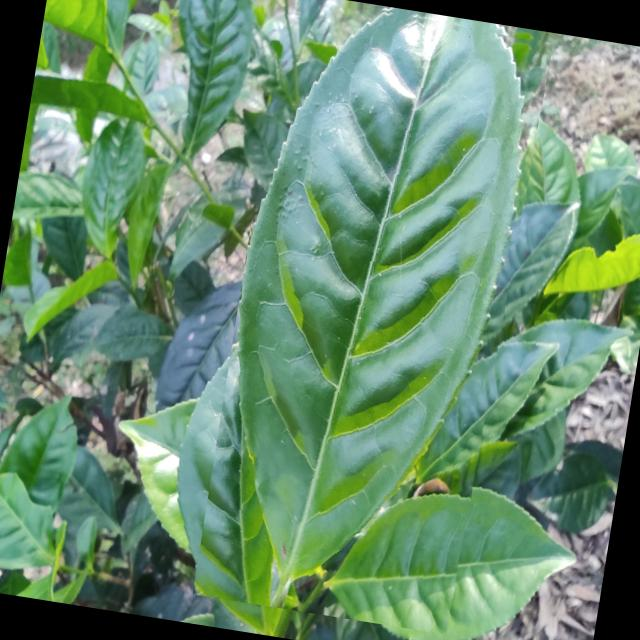Category D(7+ days, Not for Tea): (192, 0, 554, 637)
